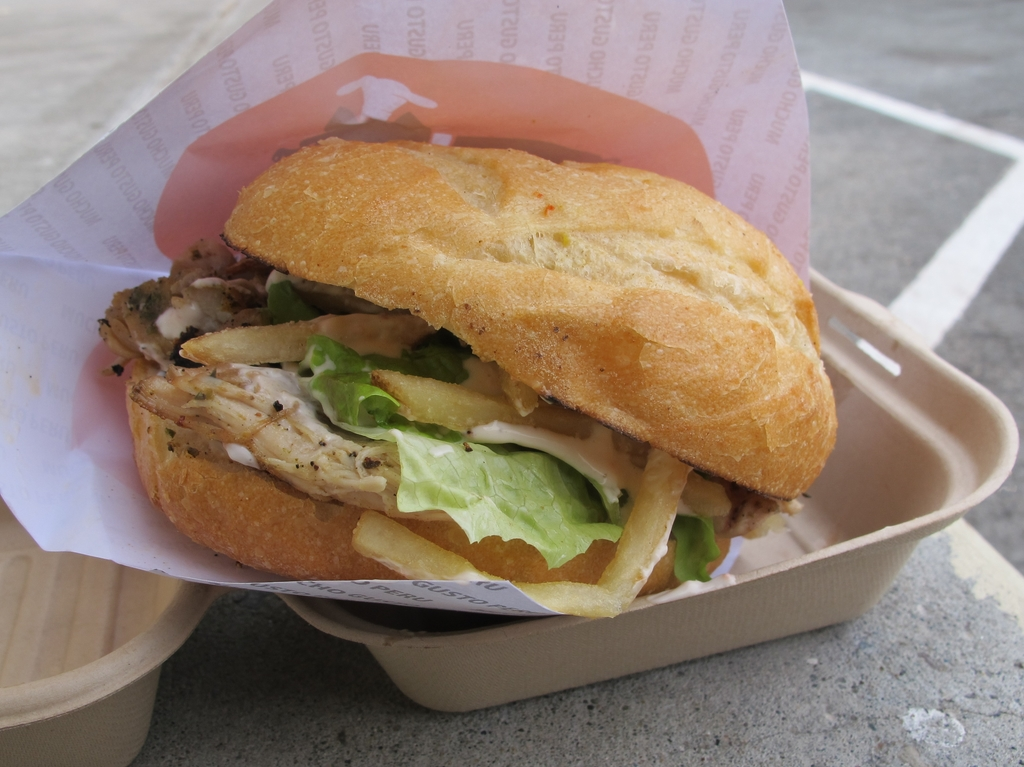Hamburger: (88, 128, 842, 588)
